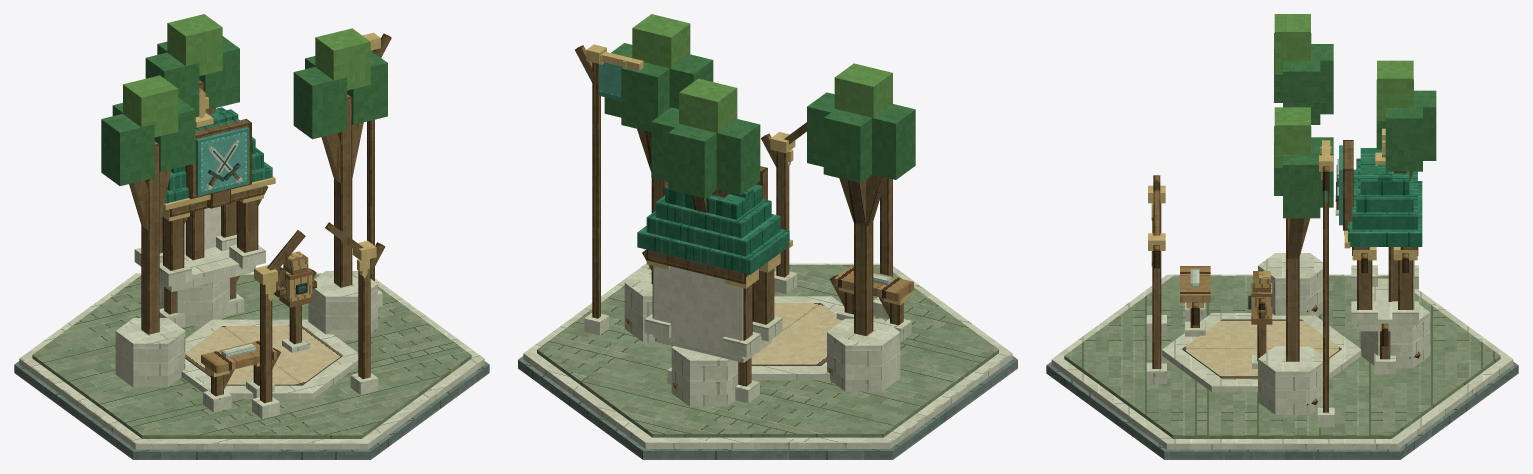
Rendered from elf_warrior_mastery_hex_v1.glb.
The picture shows the model from 3 angles, left to right: view 1: azimuth 30°, elevation 25°; view 2: azimuth 150°, elevation 25°; view 3: azimuth 270°, elevation 25°; orthographic projection. The views are drawn at different scales.
Visible parts, largest first — view 1: Elf_Warrior_Mastery_Hex_V1_Foundation, Elf_Warrior_Mastery_Hex_V1_Focus, Elf_Warrior_Mastery_Hex_V1_Courtyard, Elf_Warrior_Mastery_Hex_V1_Hall, Elf_Warrior_Mastery_Hex_V1_Faction, Elf_Warrior_Mastery_Hex_V1_Training, Elf_Warrior_Mastery_Hex_V1_Roofs; view 2: Elf_Warrior_Mastery_Hex_V1_Foundation, Elf_Warrior_Mastery_Hex_V1_Focus, Elf_Warrior_Mastery_Hex_V1_Hall, Elf_Warrior_Mastery_Hex_V1_Courtyard, Elf_Warrior_Mastery_Hex_V1_Roofs, Elf_Warrior_Mastery_Hex_V1_Faction, Elf_Warrior_Mastery_Hex_V1_Training; view 3: Elf_Warrior_Mastery_Hex_V1_Foundation, Elf_Warrior_Mastery_Hex_V1_Focus, Elf_Warrior_Mastery_Hex_V1_Courtyard, Elf_Warrior_Mastery_Hex_V1_Hall, Elf_Warrior_Mastery_Hex_V1_Roofs, Elf_Warrior_Mastery_Hex_V1_Faction, Elf_Warrior_Mastery_Hex_V1_Training.
Boxes of the visible parts, left/top/right/bottom form: Elf_Warrior_Mastery_Hex_V1_Foundation: left=14, top=273, right=489, bottom=459; Elf_Warrior_Mastery_Hex_V1_Focus: left=101, top=14, right=387, bottom=334; Elf_Warrior_Mastery_Hex_V1_Courtyard: left=115, top=222, right=377, bottom=399; Elf_Warrior_Mastery_Hex_V1_Hall: left=134, top=186, right=384, bottom=418; Elf_Warrior_Mastery_Hex_V1_Faction: left=185, top=32, right=391, bottom=306; Elf_Warrior_Mastery_Hex_V1_Training: left=201, top=251, right=316, bottom=412; Elf_Warrior_Mastery_Hex_V1_Roofs: left=163, top=88, right=275, bottom=210; Elf_Warrior_Mastery_Hex_V1_Foundation: left=518, top=263, right=1017, bottom=459; Elf_Warrior_Mastery_Hex_V1_Focus: left=604, top=14, right=915, bottom=391; Elf_Warrior_Mastery_Hex_V1_Hall: left=642, top=132, right=892, bottom=403; Elf_Warrior_Mastery_Hex_V1_Courtyard: left=624, top=122, right=900, bottom=406; Elf_Warrior_Mastery_Hex_V1_Roofs: left=637, top=184, right=792, bottom=274; Elf_Warrior_Mastery_Hex_V1_Faction: left=575, top=44, right=767, bottom=335; Elf_Warrior_Mastery_Hex_V1_Training: left=829, top=266, right=913, bottom=341; Elf_Warrior_Mastery_Hex_V1_Foundation: left=1046, top=274, right=1518, bottom=459; Elf_Warrior_Mastery_Hex_V1_Focus: left=1274, top=14, right=1436, bottom=405; Elf_Warrior_Mastery_Hex_V1_Courtyard: left=1151, top=175, right=1429, bottom=414; Elf_Warrior_Mastery_Hex_V1_Hall: left=1146, top=185, right=1418, bottom=383; Elf_Warrior_Mastery_Hex_V1_Roofs: left=1344, top=128, right=1422, bottom=248; Elf_Warrior_Mastery_Hex_V1_Faction: left=1317, top=140, right=1353, bottom=427; Elf_Warrior_Mastery_Hex_V1_Training: left=1180, top=266, right=1272, bottom=368.
Bounding box in the file's own units: 1.59 × 1.31 × 1.84.
Materials: 1 (1 with a texture image).
